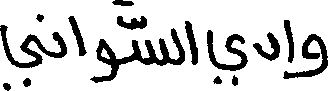ا: (69, 14, 84, 56), (283, 18, 295, 66), (184, 18, 196, 65)
د: (253, 30, 279, 61)
س: (116, 32, 170, 66)
ل: (169, 18, 184, 65)
ن: (36, 14, 66, 58)
و: (293, 31, 326, 78), (91, 35, 117, 83)
ي: (0, 22, 41, 89), (206, 27, 249, 86)
